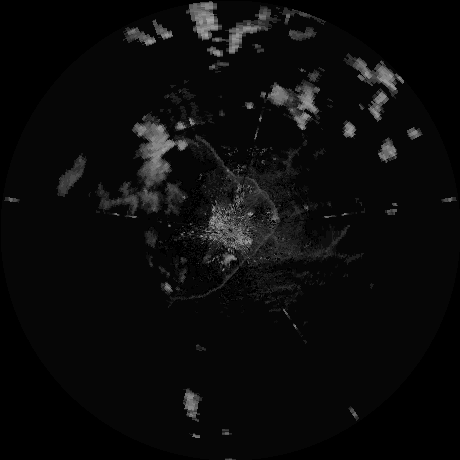frontgust: (176, 227, 276, 301), (196, 138, 279, 222)
